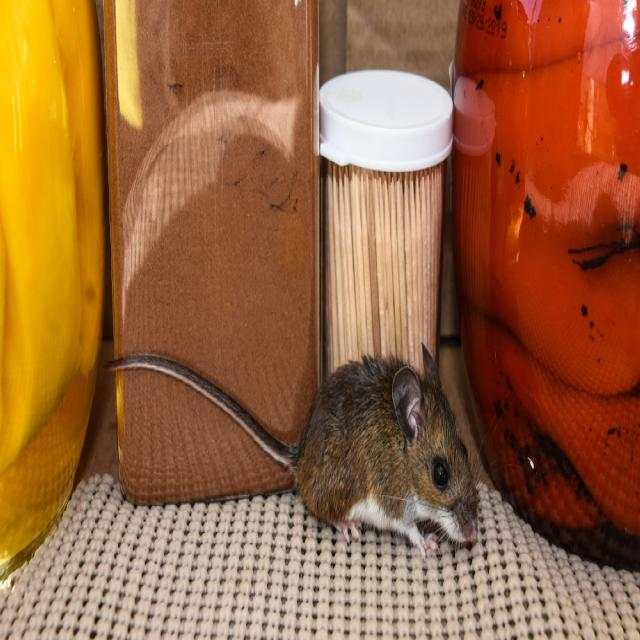rat: (293, 342, 490, 574)
